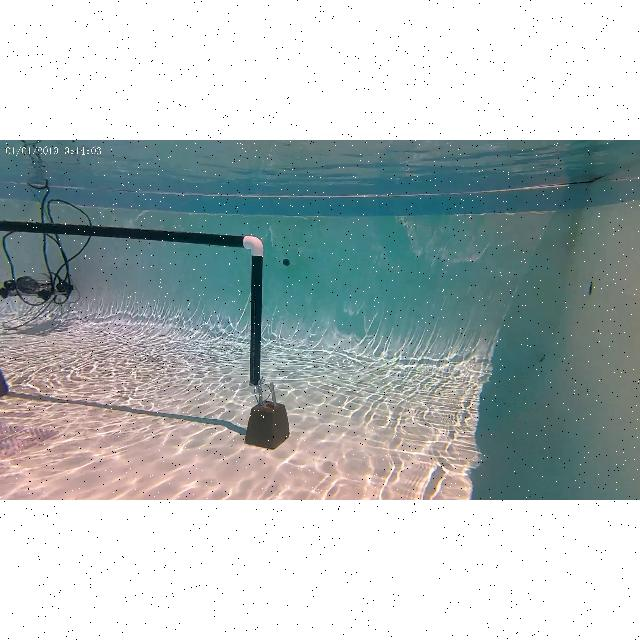prequal gate: (0, 220, 262, 392)
prequal gate leg r: (239, 231, 267, 393)
